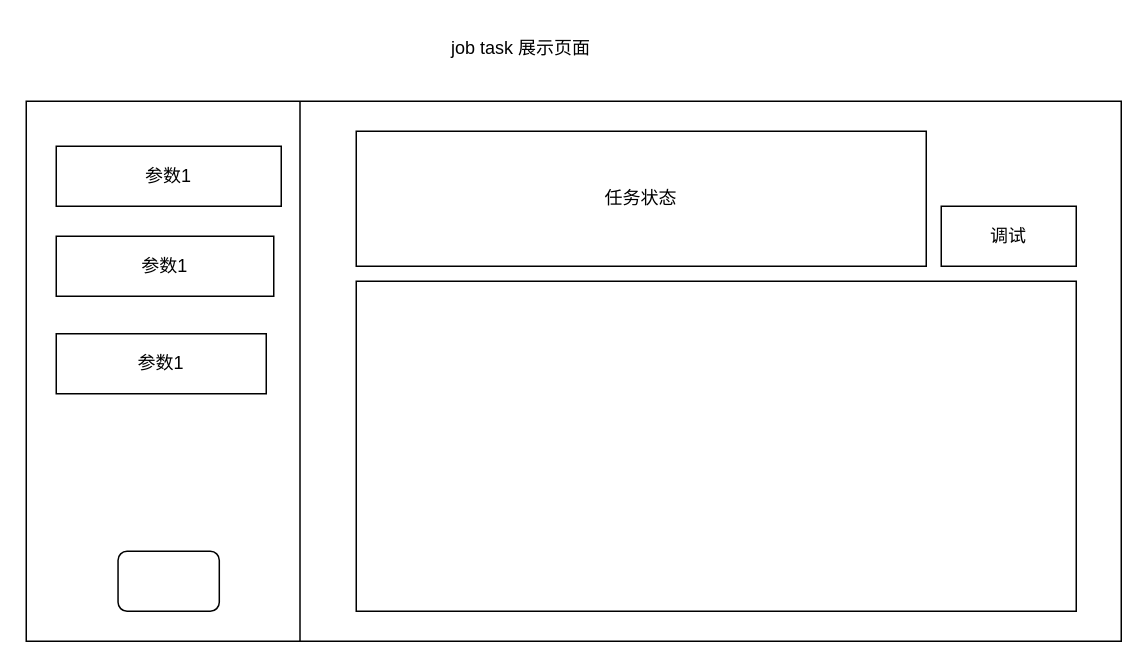
Image size: 1148x669. Some labels were removed from this diagram. Here are the shapes that lost their labels. From the top down, the centre of each, then its label:
At (715,445): "任务日志/调试控制台".
At (168,580): "运行".
